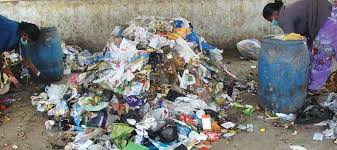garbage: (75, 49, 223, 150), (119, 24, 216, 145), (46, 83, 213, 150)
